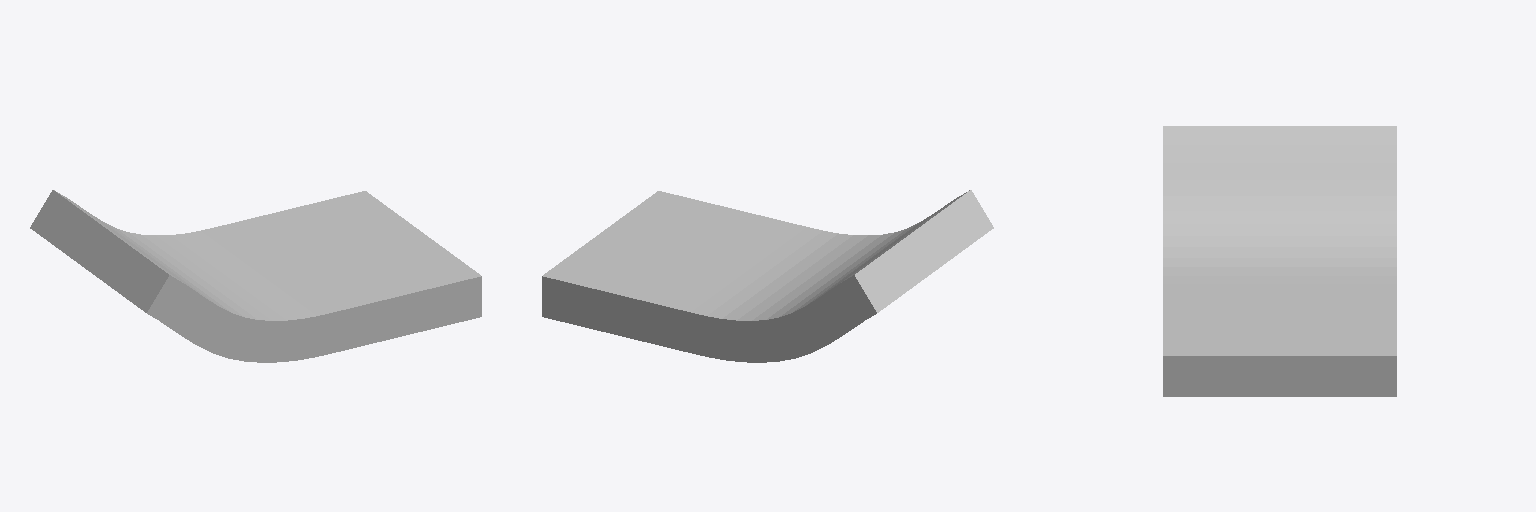
Rendered from jump_single.obj.
3 views of the same model, side by side, from view 1: azimuth 30°, elevation 25°; view 2: azimuth 150°, elevation 25°; view 3: azimuth 270°, elevation 25° (orthographic).
Visible parts, largest first — view 1: Cube; view 2: Cube; view 3: Cube.
Part boxes in pixels (left/top/right/bottom): Cube: left=30, top=190, right=481, bottom=362; Cube: left=542, top=190, right=993, bottom=362; Cube: left=1163, top=126, right=1396, bottom=396.
Bounding box in the file's own units: 3.32 × 1.12 × 2.